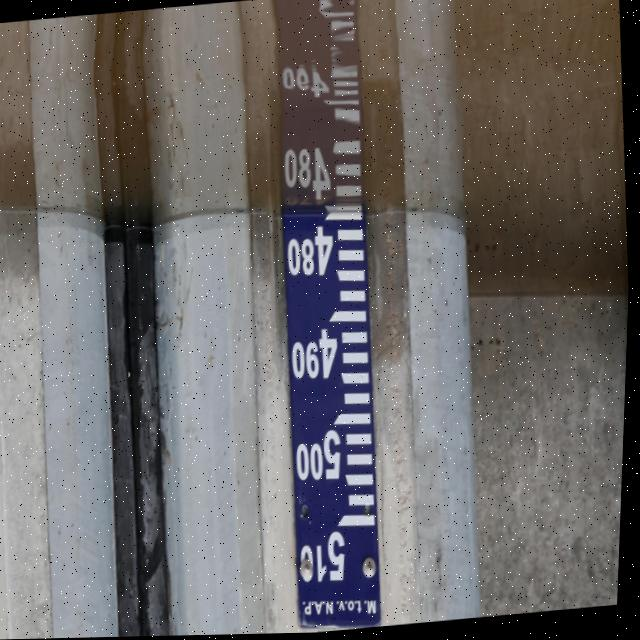water-meter: (247, 165, 411, 634)
